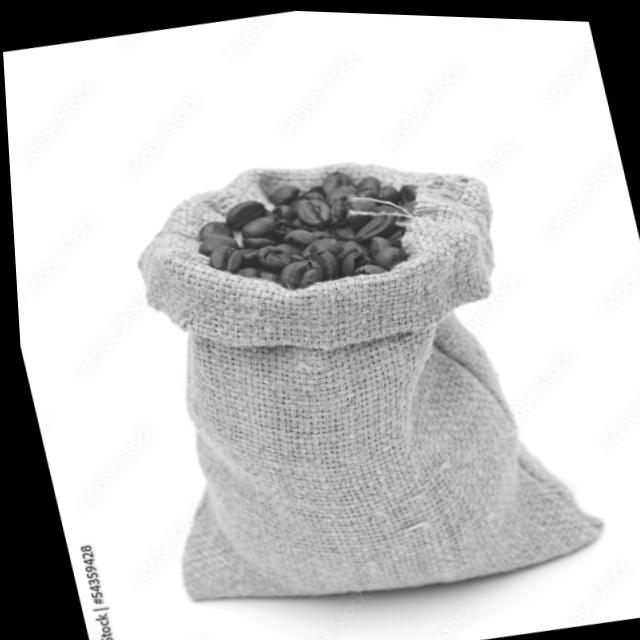sack: (84, 113, 607, 630)
